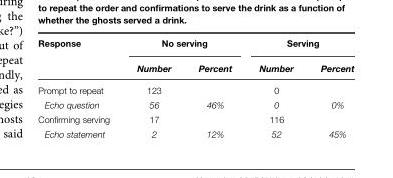table: (37, 37, 353, 138)
table column: (37, 37, 122, 138), (122, 37, 184, 138), (244, 37, 306, 138), (184, 37, 244, 138), (306, 37, 353, 138)
table column header: (37, 37, 353, 78)
table row: (37, 55, 353, 78), (37, 37, 353, 55), (37, 78, 353, 96), (37, 96, 353, 111), (37, 111, 353, 126), (37, 126, 353, 138)
table spanning cell: (37, 37, 122, 78), (122, 37, 244, 55), (244, 37, 353, 55)
